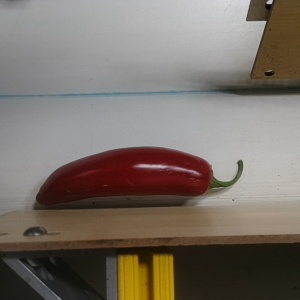Cut Point: (195, 156, 221, 197)
